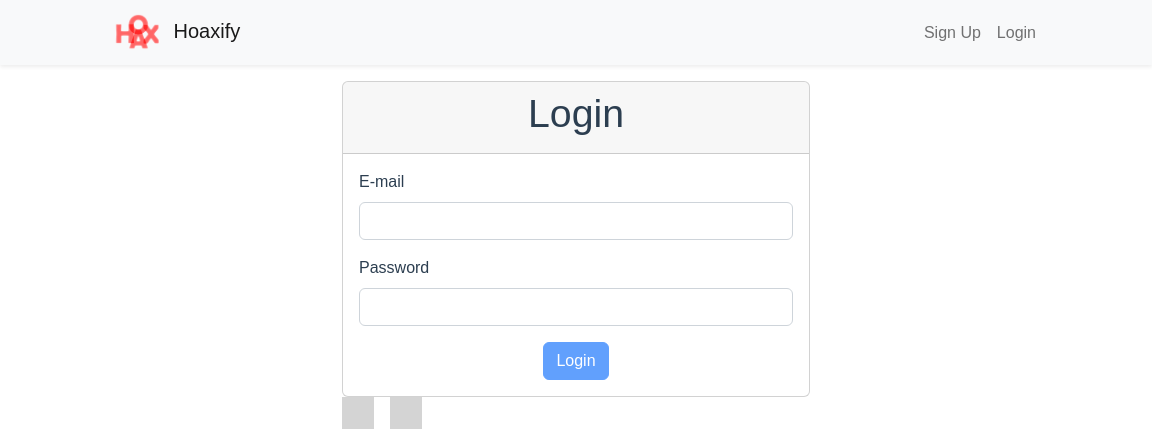
Scenario: Routing › displays home page when clicking brand logo
Click the picture with alt text "Hoaxify Logo": [138, 33] box x1=108 y1=13 x2=168 y2=52
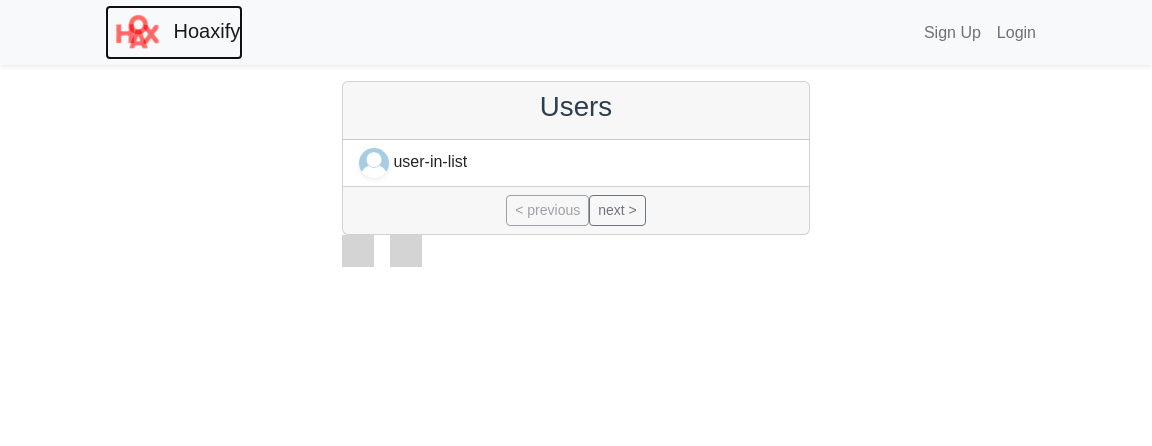
Result: the element with test id "home-page" is shown at x1=342 y1=81 x2=810 y2=236
